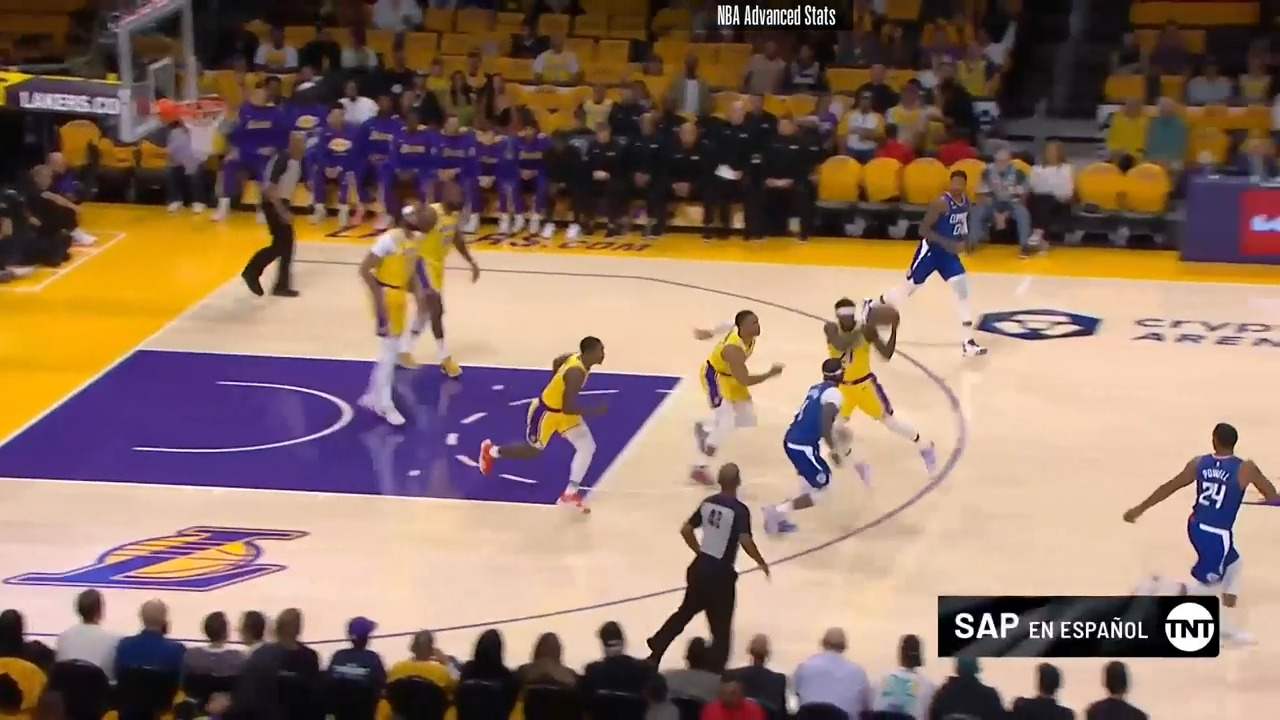net: (147, 91, 236, 164)
player: (1115, 423, 1275, 637), (851, 162, 995, 368), (353, 200, 465, 433), (481, 333, 617, 515), (821, 303, 946, 490), (764, 355, 871, 545), (679, 307, 783, 490), (408, 189, 480, 376)
referee: (643, 460, 777, 666), (232, 118, 327, 306)
